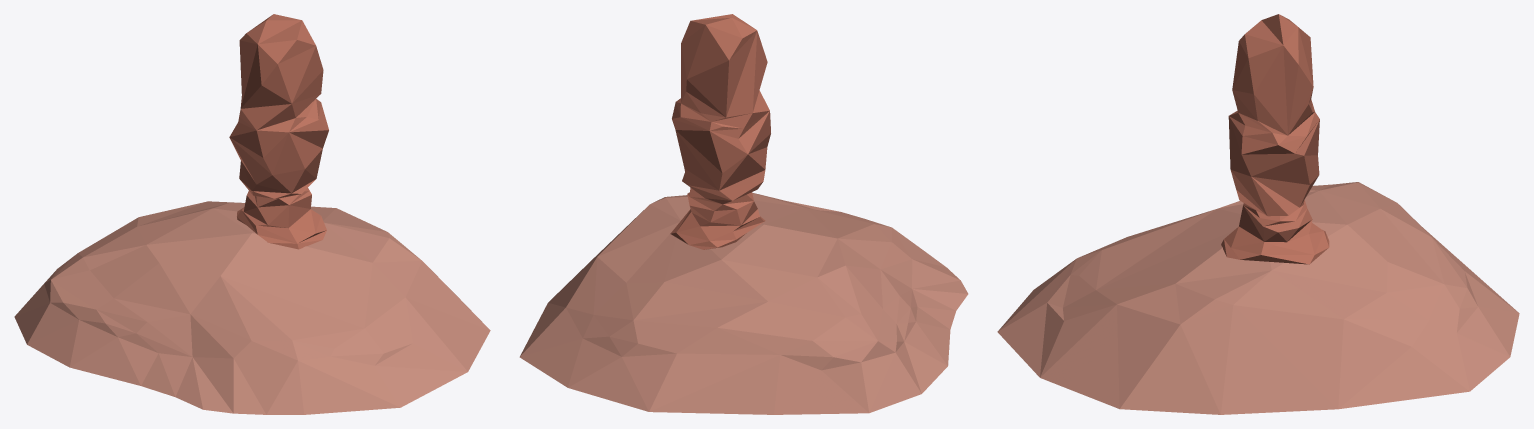
File: rock_015.fbx
3 views of the same model, side by side, from view 1: azimuth 30°, elevation 25°; view 2: azimuth 150°, elevation 25°; view 3: azimuth 270°, elevation 25° (orthographic). The views are drawn at different scales.
Visible parts, largest first — view 1: rock_015; view 2: rock_015; view 3: rock_015.
Part boxes in pixels (left/top/right/bottom): rock_015: left=14, top=14, right=490, bottom=414; rock_015: left=519, top=14, right=968, bottom=414; rock_015: left=997, top=14, right=1519, bottom=414.
Bounding box in the file's own units: 1021 × 1146 × 765.
